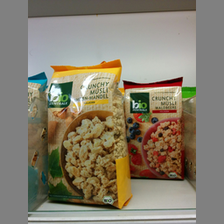cereal: (46, 59, 131, 209), (122, 77, 185, 180)
